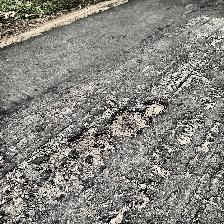pothole: (64, 124, 112, 162), (105, 107, 150, 137), (143, 100, 167, 116)
